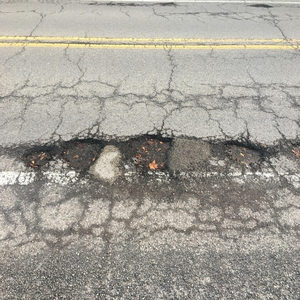pothole: (120, 130, 175, 182), (60, 136, 107, 177), (224, 136, 266, 169), (21, 141, 54, 170)
